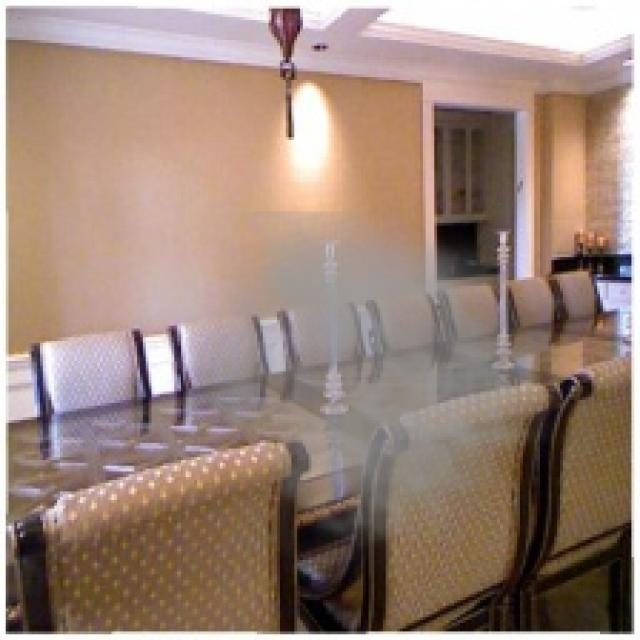smoke: (169, 211, 577, 583)
